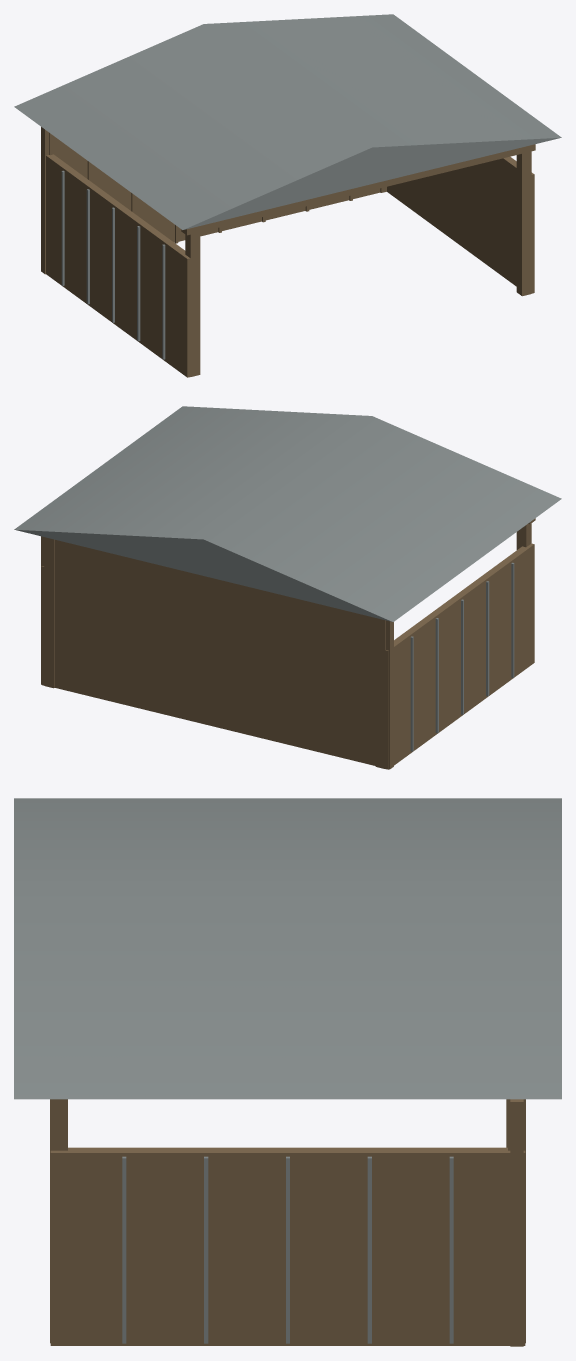
The model's file is Scenery_MachineryShed.fbx.
3 renders of one model, top to bottom at view 1: azimuth 30°, elevation 25°; view 2: azimuth 150°, elevation 25°; view 3: azimuth 270°, elevation 25°, orthographic. The views are drawn at different scales.
Parts seen in each view (by area): view 1: Scenery_MachineryShed_LOD0; view 2: Scenery_MachineryShed_LOD0; view 3: Scenery_MachineryShed_LOD0.
Boxes of the visible parts, box(x1,y1,x2,y2) form: Scenery_MachineryShed_LOD0: box(14, 14, 561, 377); Scenery_MachineryShed_LOD0: box(14, 406, 561, 769); Scenery_MachineryShed_LOD0: box(14, 798, 561, 1346).
Size of what is drawn, in the model's own units: 8.7 by 4.3 by 6.7.
